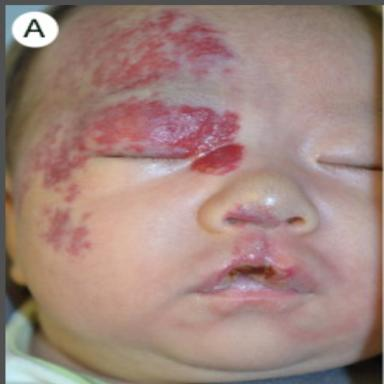Hemangiome: (173, 107, 243, 174)
